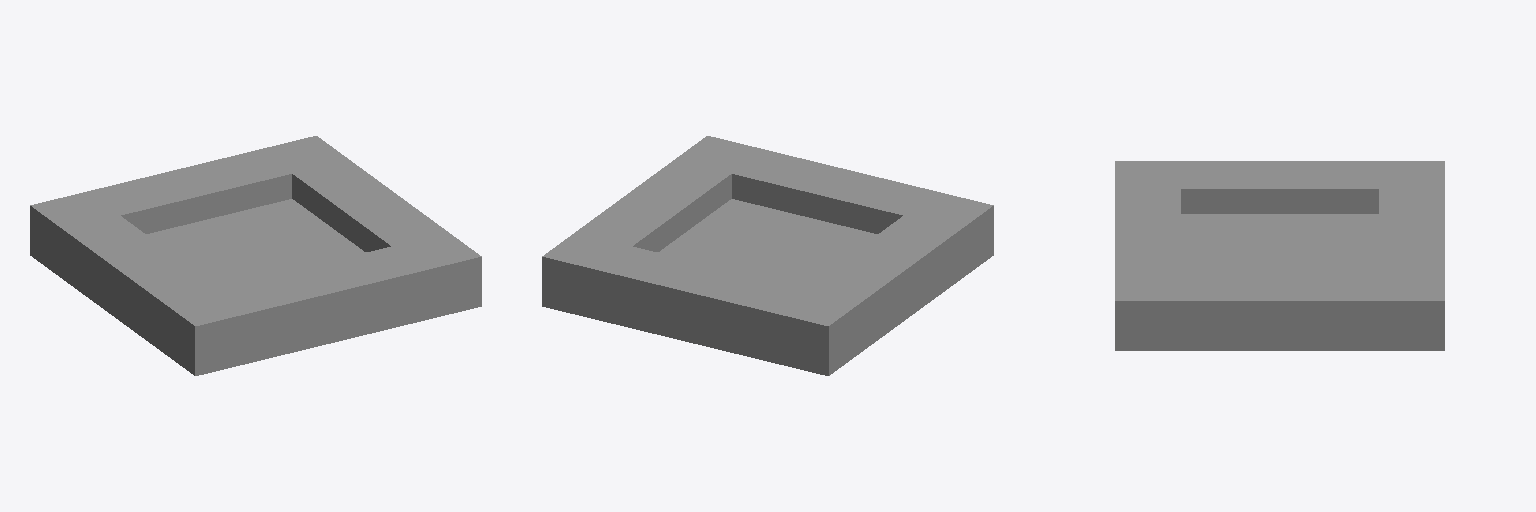
The model's file is tank_valve.obj.
3 views of the same model, side by side, from view 1: azimuth 30°, elevation 25°; view 2: azimuth 150°, elevation 25°; view 3: azimuth 270°, elevation 25° (orthographic).
Parts seen in each view (by area): view 1: Cube_Cube.003; view 2: Cube_Cube.003; view 3: Cube_Cube.003.
Boxes of the visible parts, box(x1,y1,x2,y2) form: Cube_Cube.003: box(30, 136, 481, 375); Cube_Cube.003: box(542, 136, 993, 375); Cube_Cube.003: box(1115, 161, 1444, 350).
Size of the model in its own units: 0.3 by 0.05 by 0.3.